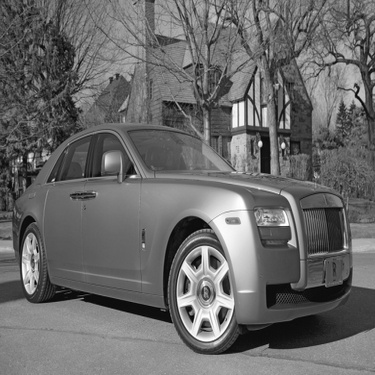car: (9, 111, 361, 356)
